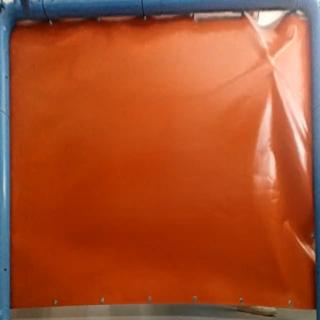Hit-hRxx: (265, 54, 279, 71)
